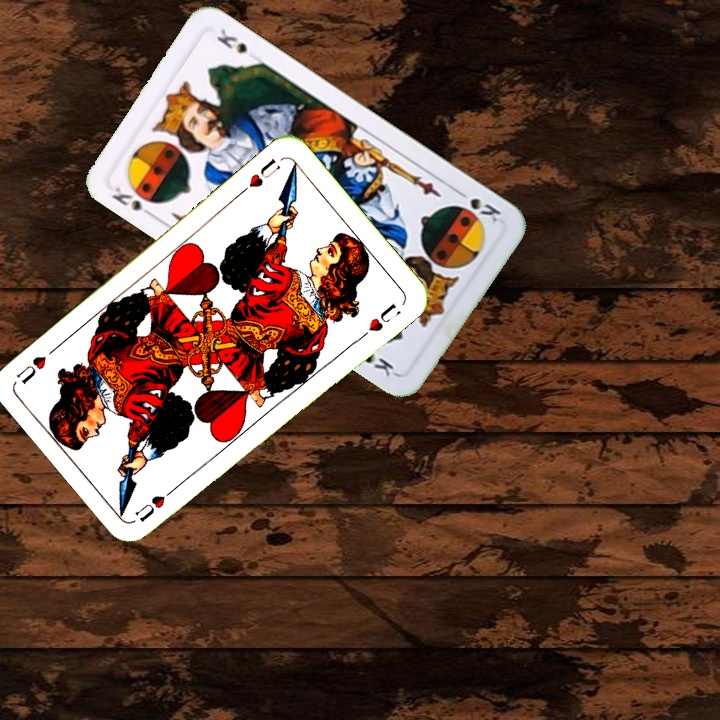HU: (131, 481, 181, 525), (236, 155, 283, 197)
SK: (451, 185, 504, 225), (107, 182, 158, 221)
